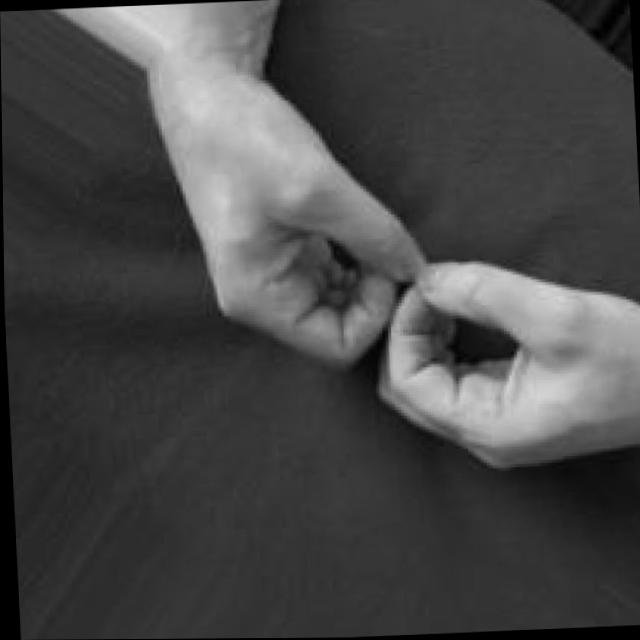B: (155, 55, 640, 481)
